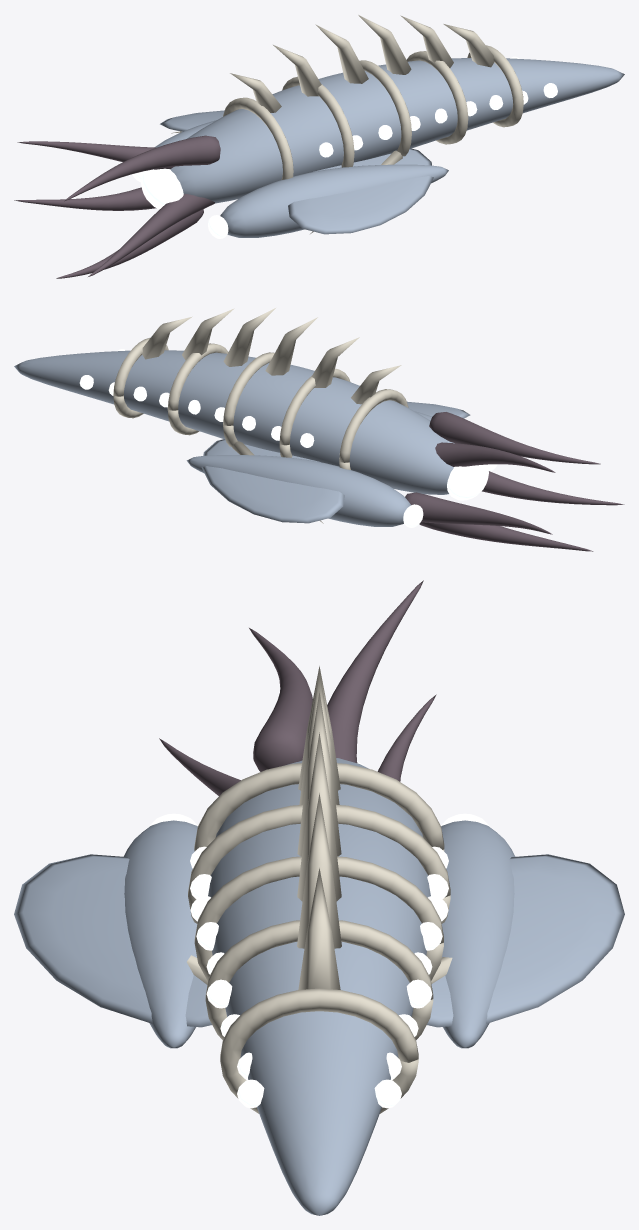
The model's file is organic_enormous.glb.
3 renders of one model, top to bottom at view 1: azimuth 30°, elevation 25°; view 2: azimuth 150°, elevation 25°; view 3: azimuth 270°, elevation 25°, orthographic. The views are drawn at different scales.
Visible parts, largest first — view 1: organic_enormous; view 2: organic_enormous; view 3: organic_enormous.
Boxes of the visible parts, <box> form: organic_enormous: <box>14,15,624,278</box>; organic_enormous: <box>14,308,624,551</box>; organic_enormous: <box>14,580,624,1215</box>.
Bounding box in the file's own units: 2.5 × 0.7685 × 1.21.
